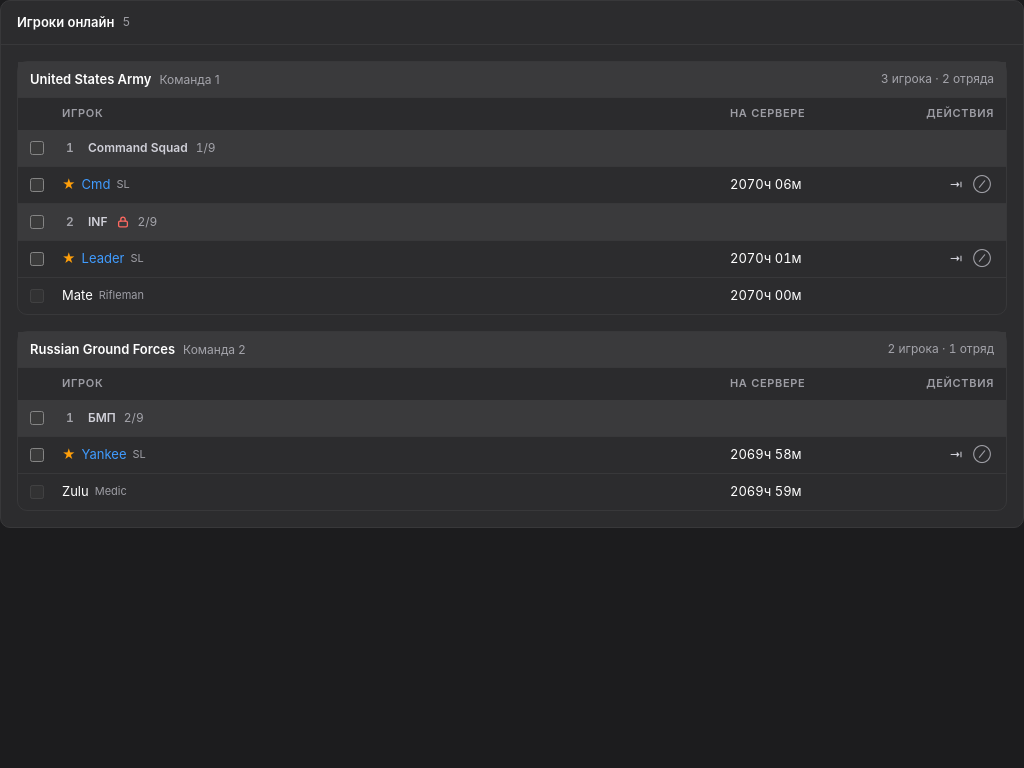
Test case: LivePlayers › selects a whole squad from its header
Check: the link "Leader" is shown, box [82, 249, 124, 268]
What coordinates should you click on to do the following:
click the checkbox named "Выделить отряд: Команда 1 · Отряд 2" in the row of "INF"
I would click on:
 (37, 222)
Its box is [30, 215, 44, 229].
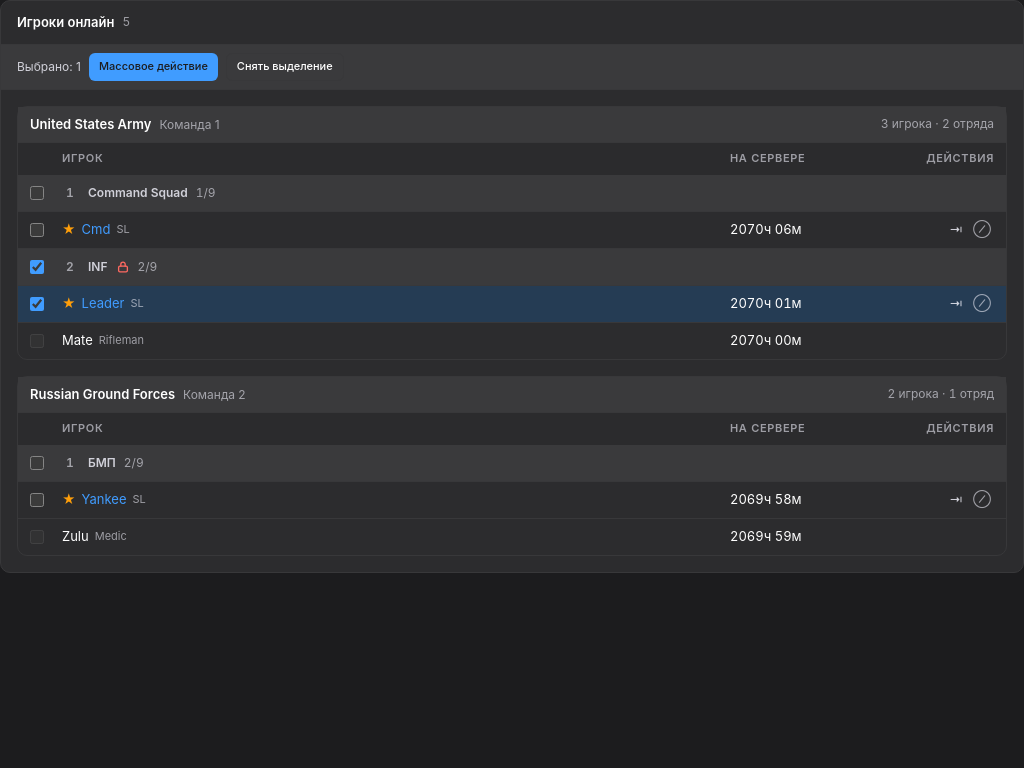
Check: the text "Выбрано: 1" is shown, box [17, 59, 81, 75]
